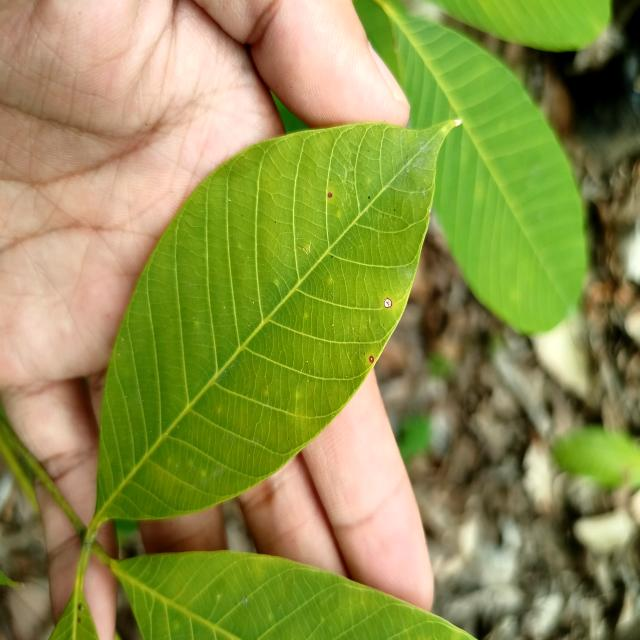Colletotrichum: (384, 298, 392, 308), (369, 355, 374, 363), (328, 193, 332, 198)
